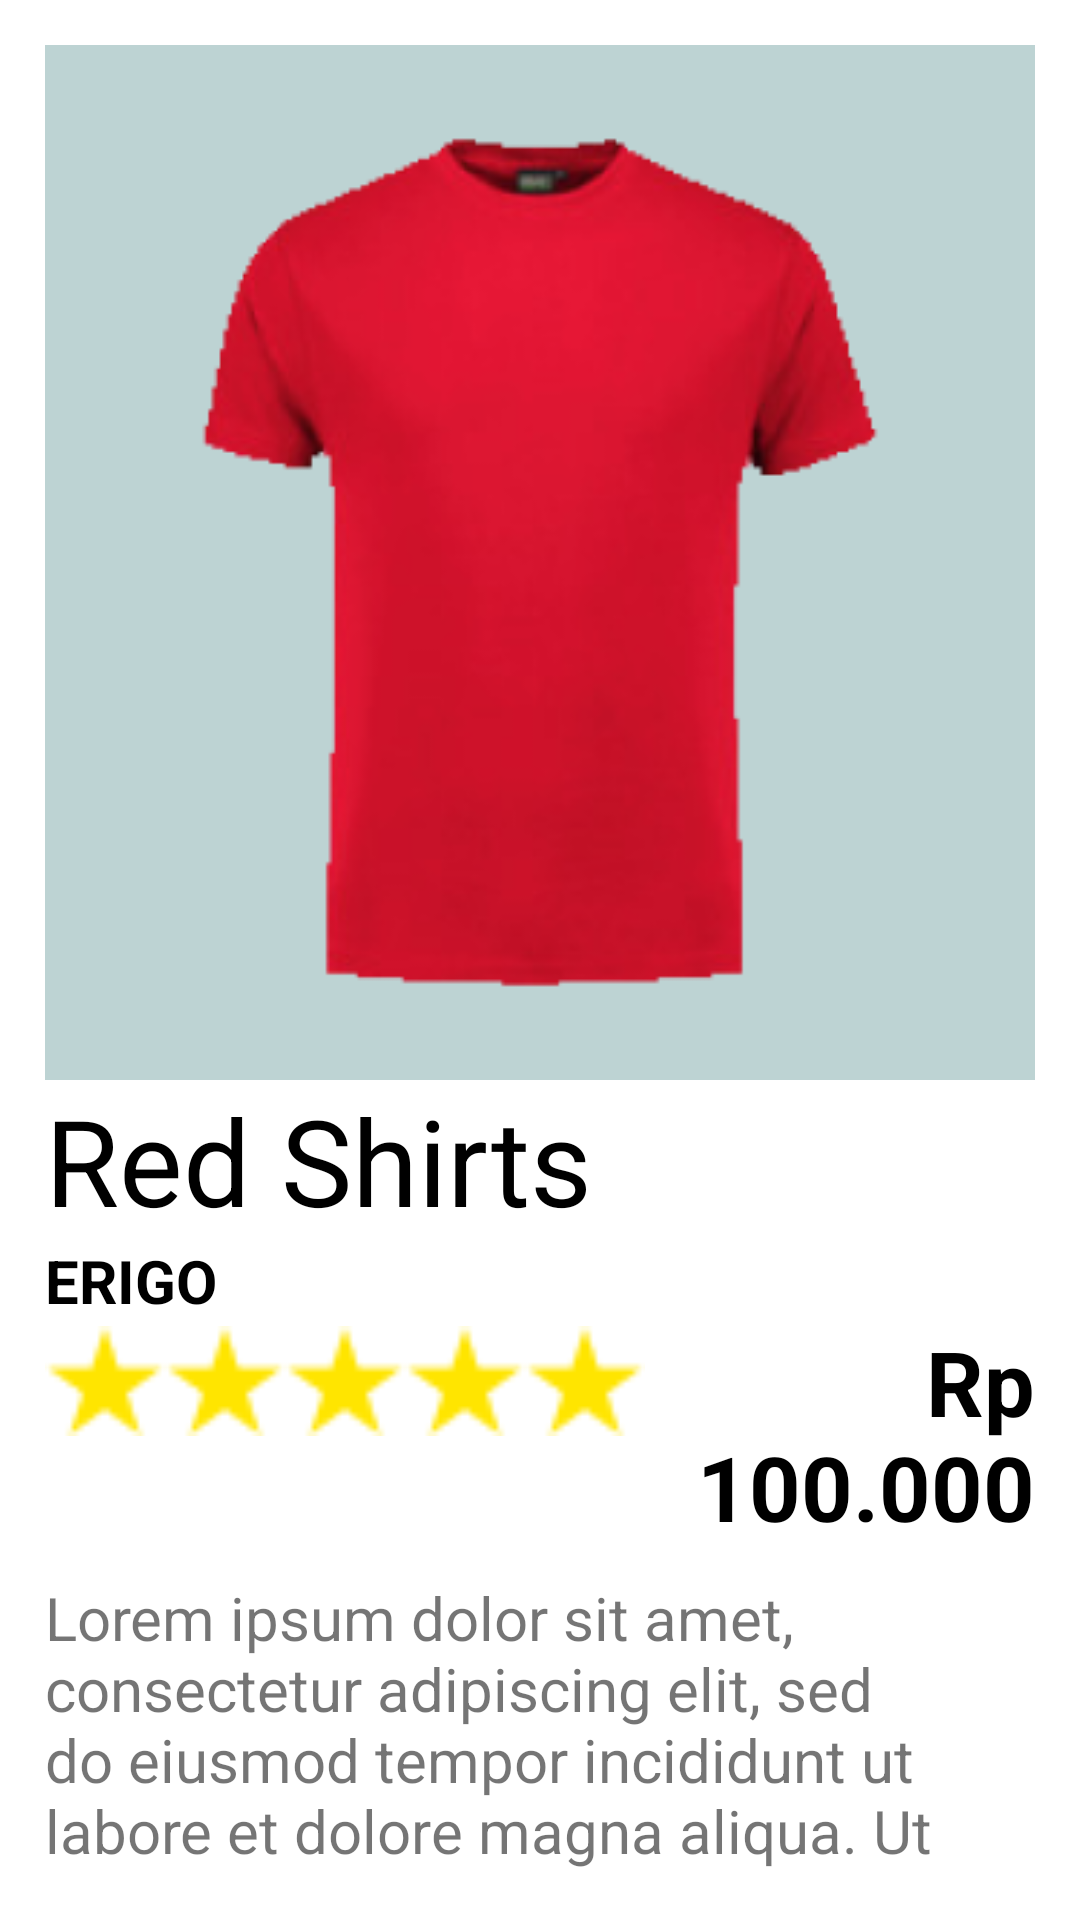

Icons on this 1080 × 1920 Android screen, each with the point to tap as (x=x, y=y):
star: (x=105, y=1381), (x=225, y=1381), (x=345, y=1381), (x=465, y=1381), (x=585, y=1381)
